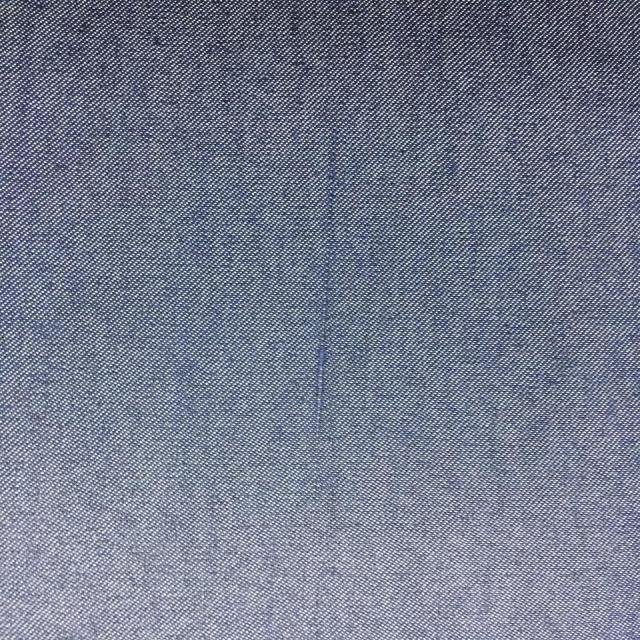Line: (308, 127, 343, 435)
